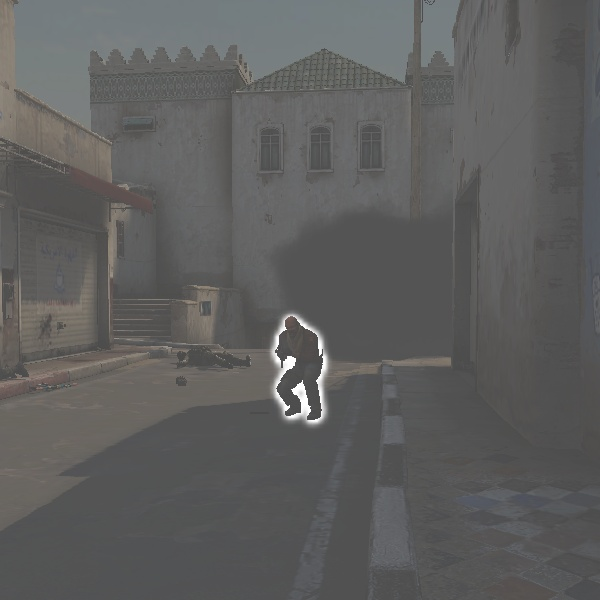t_body: (259, 311, 336, 422)
